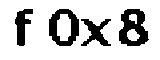0: (44, 6, 82, 50)
8: (115, 7, 153, 51)
f: (9, 7, 38, 48)
x: (80, 16, 113, 50)
